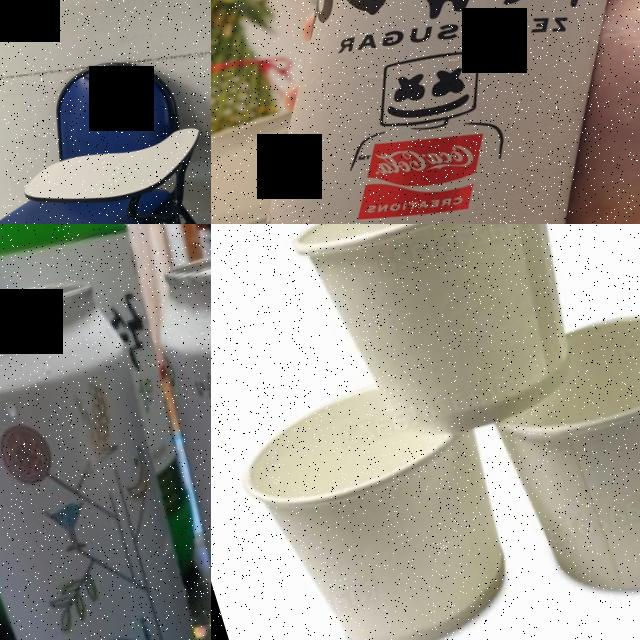can: (211, 0, 640, 224), (0, 256, 211, 640), (97, 224, 211, 640)
cup: (228, 361, 537, 640), (280, 224, 621, 460), (471, 284, 640, 619)
